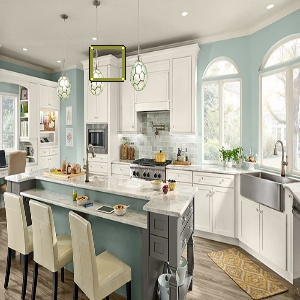square: (87, 43, 128, 84)
